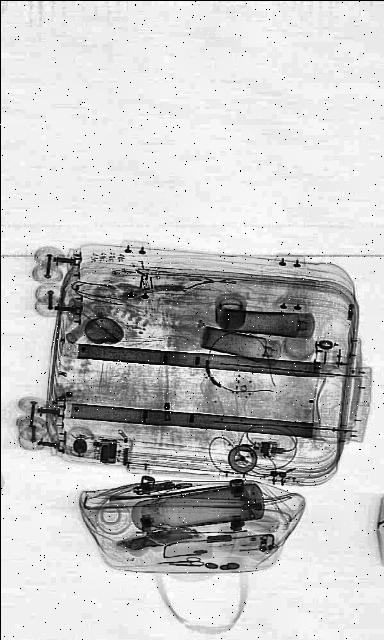Scissors: (159, 552, 203, 568)
